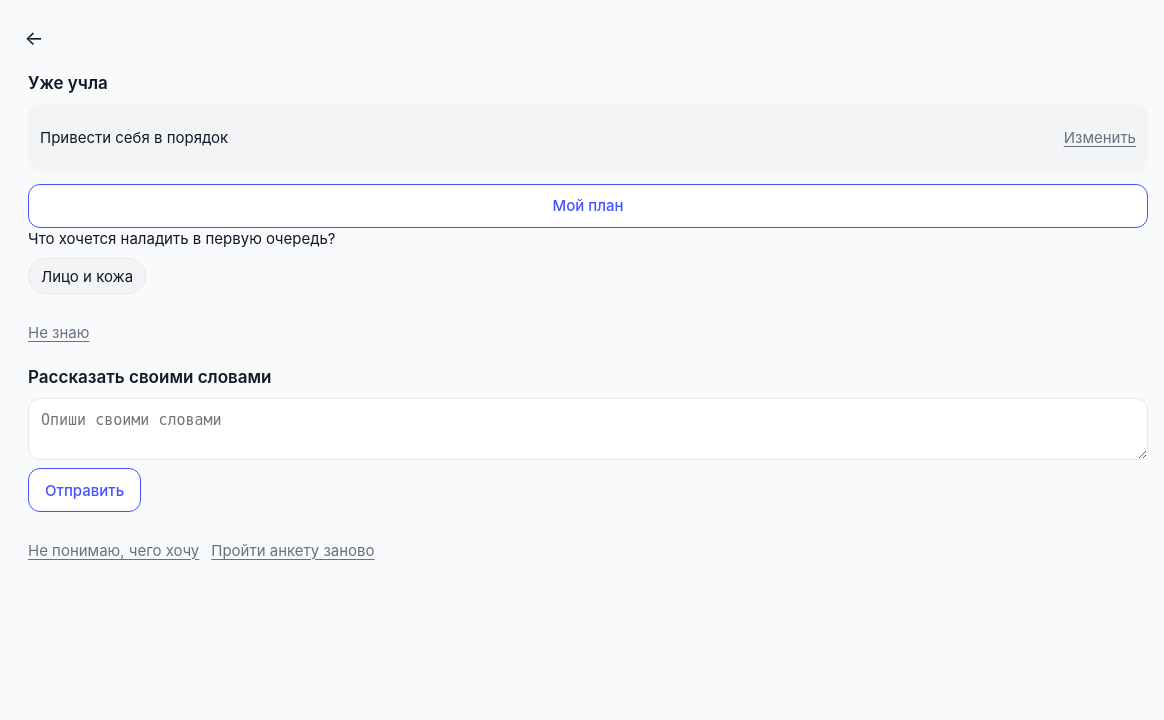
it: первый кадр с целью — «Уже учла» и вопрос (C03.2) › «Изменить» у цели — повторный проход (семь целей только за ним)
Step 1. Click the button "Изменить" → [1100, 138], box [1064,116,1136,160]
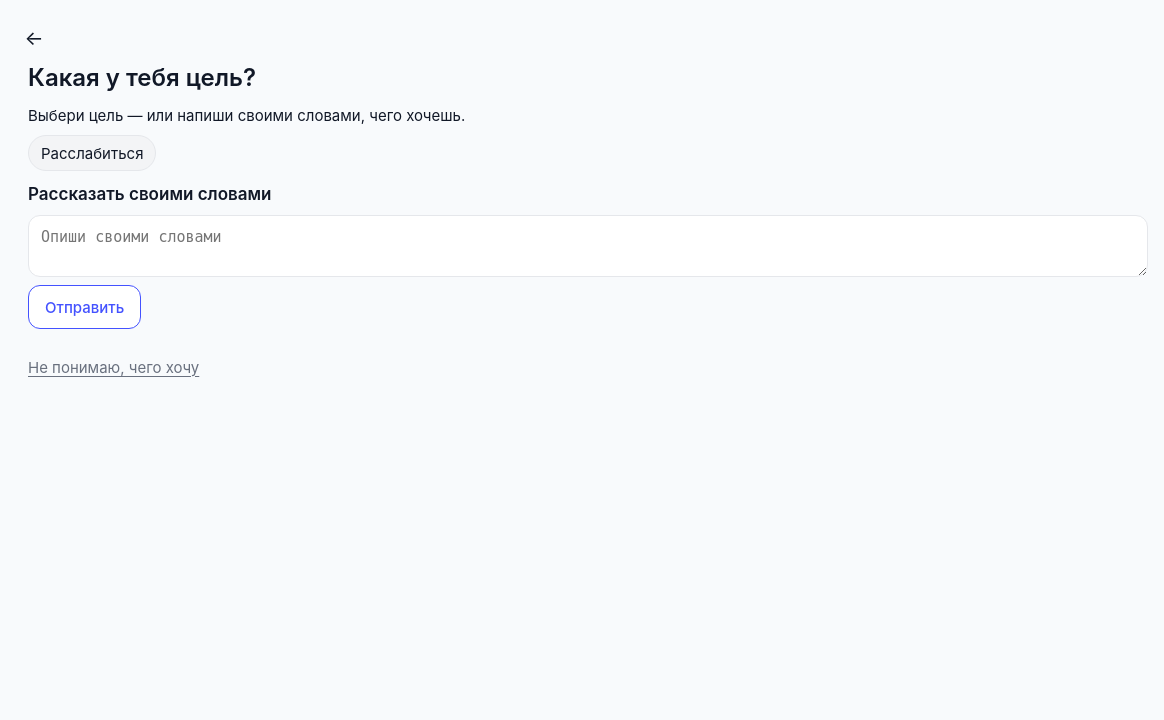
Expected: the button "Расслабиться" is shown, [28,135,156,171]
